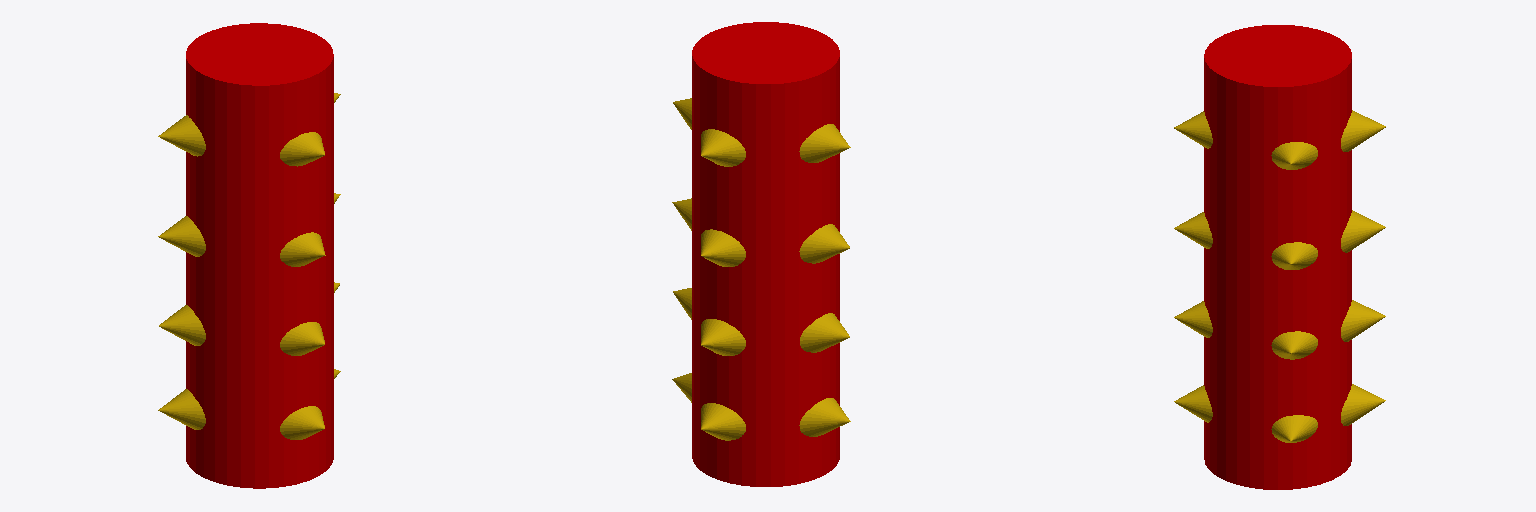
The model's file is tikenson.obj.
3 renders of one model, left to right at view 1: azimuth 30°, elevation 25°; view 2: azimuth 150°, elevation 25°; view 3: azimuth 270°, elevation 25°, orthographic.
Parts seen in each view (by area): view 1: Cylinder, Cone.007_Cone.009; view 2: Cylinder, Cone.007_Cone.009; view 3: Cylinder, Cone.007_Cone.009.
Boxes of the visible parts, <box> form: Cylinder: <box>186,23,333,488</box>; Cone.007_Cone.009: <box>158,93,340,439</box>; Cylinder: <box>692,22,839,486</box>; Cone.007_Cone.009: <box>672,98,850,440</box>; Cylinder: <box>1204,25,1351,489</box>; Cone.007_Cone.009: <box>1174,110,1385,442</box>.
Bounding box in the file's own units: 2.82 × 6 × 2.88.